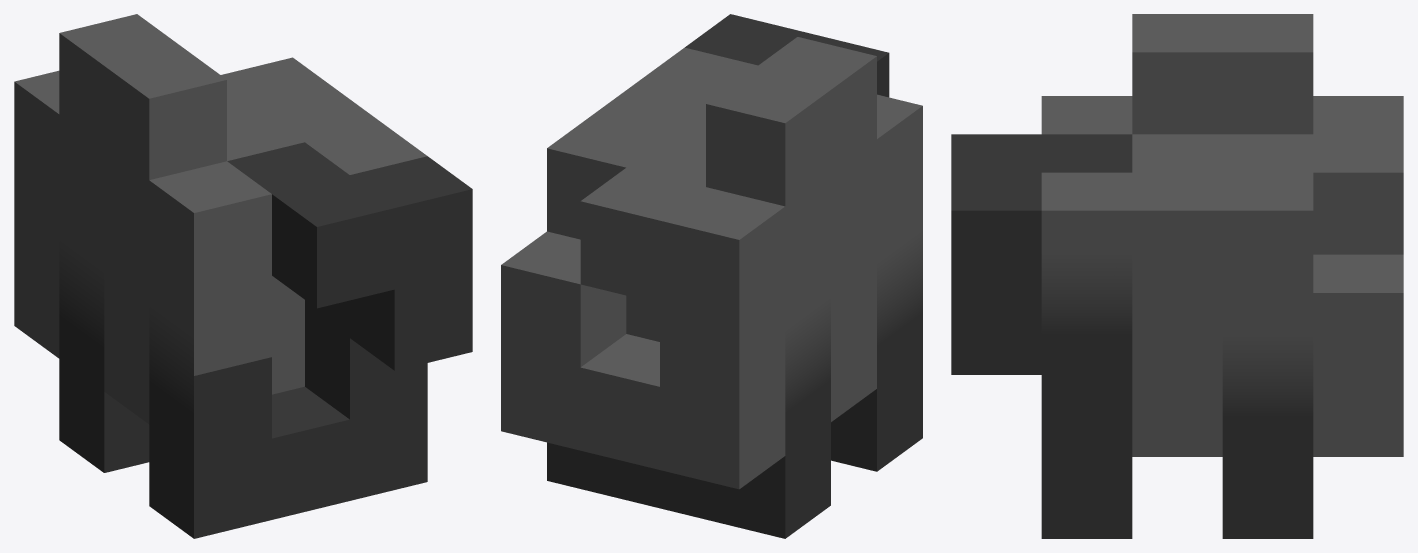
Rendered from Arm5.fbx.
The picture shows the model from 3 angles, left to right: view 1: azimuth 30°, elevation 25°; view 2: azimuth 150°, elevation 25°; view 3: azimuth 270°, elevation 25°; orthographic projection. The views are drawn at different scales.
Parts seen in each view (by area): view 1: Arm5; view 2: Arm5; view 3: Arm5.
Part boxes in pixels (x1,y1,x2,y2): Arm5: [14, 14, 472, 538]; Arm5: [501, 14, 922, 538]; Arm5: [951, 14, 1403, 538].
Size of the model in its own units: 15 by 25 by 25.
